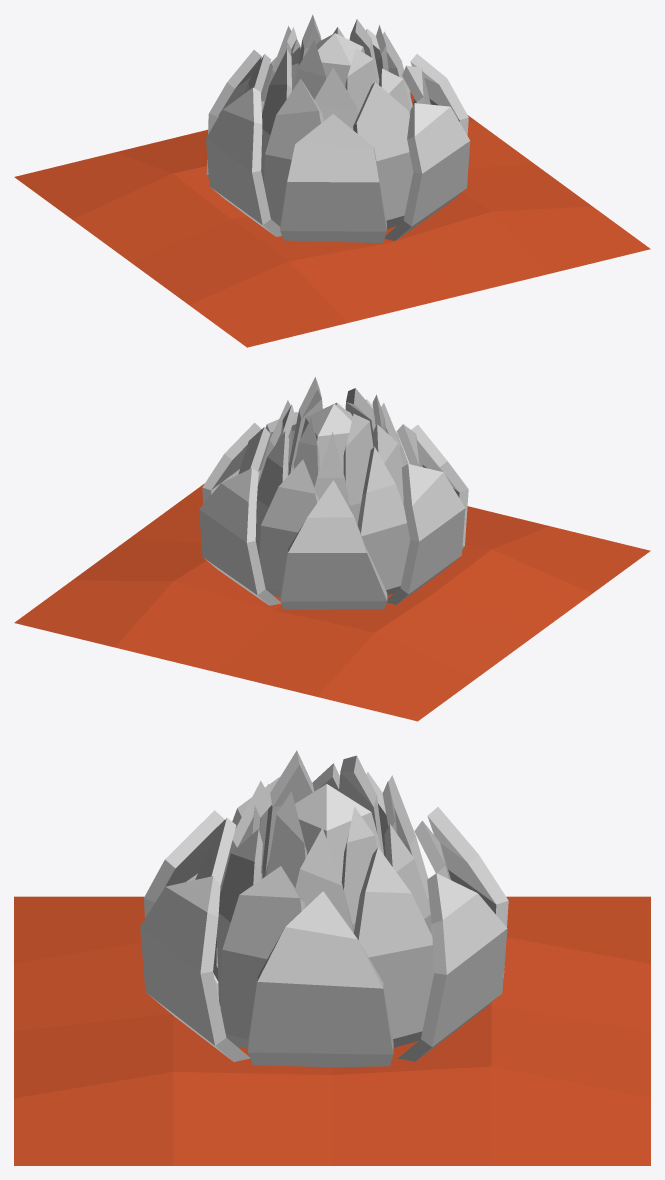
Rendered from lettuce_garden_02.fbx.
3 views of the same model, one above another, from view 1: azimuth 30°, elevation 25°; view 2: azimuth 150°, elevation 25°; view 3: azimuth 270°, elevation 25° (orthographic). The views are drawn at different scales.
Visible parts, largest first — view 1: ground, lettuce; view 2: ground, lettuce; view 3: ground, lettuce.
Boxes of the visible parts, <box> form: ground: <box>14,91,650,347</box>; lettuce: <box>206,14,470,242</box>; ground: <box>14,483,650,721</box>; lettuce: <box>199,377,468,609</box>; ground: <box>14,896,650,1165</box>; lettuce: <box>140,750,508,1067</box>.
Bounding box in the file's own units: 200 × 108 × 200.
